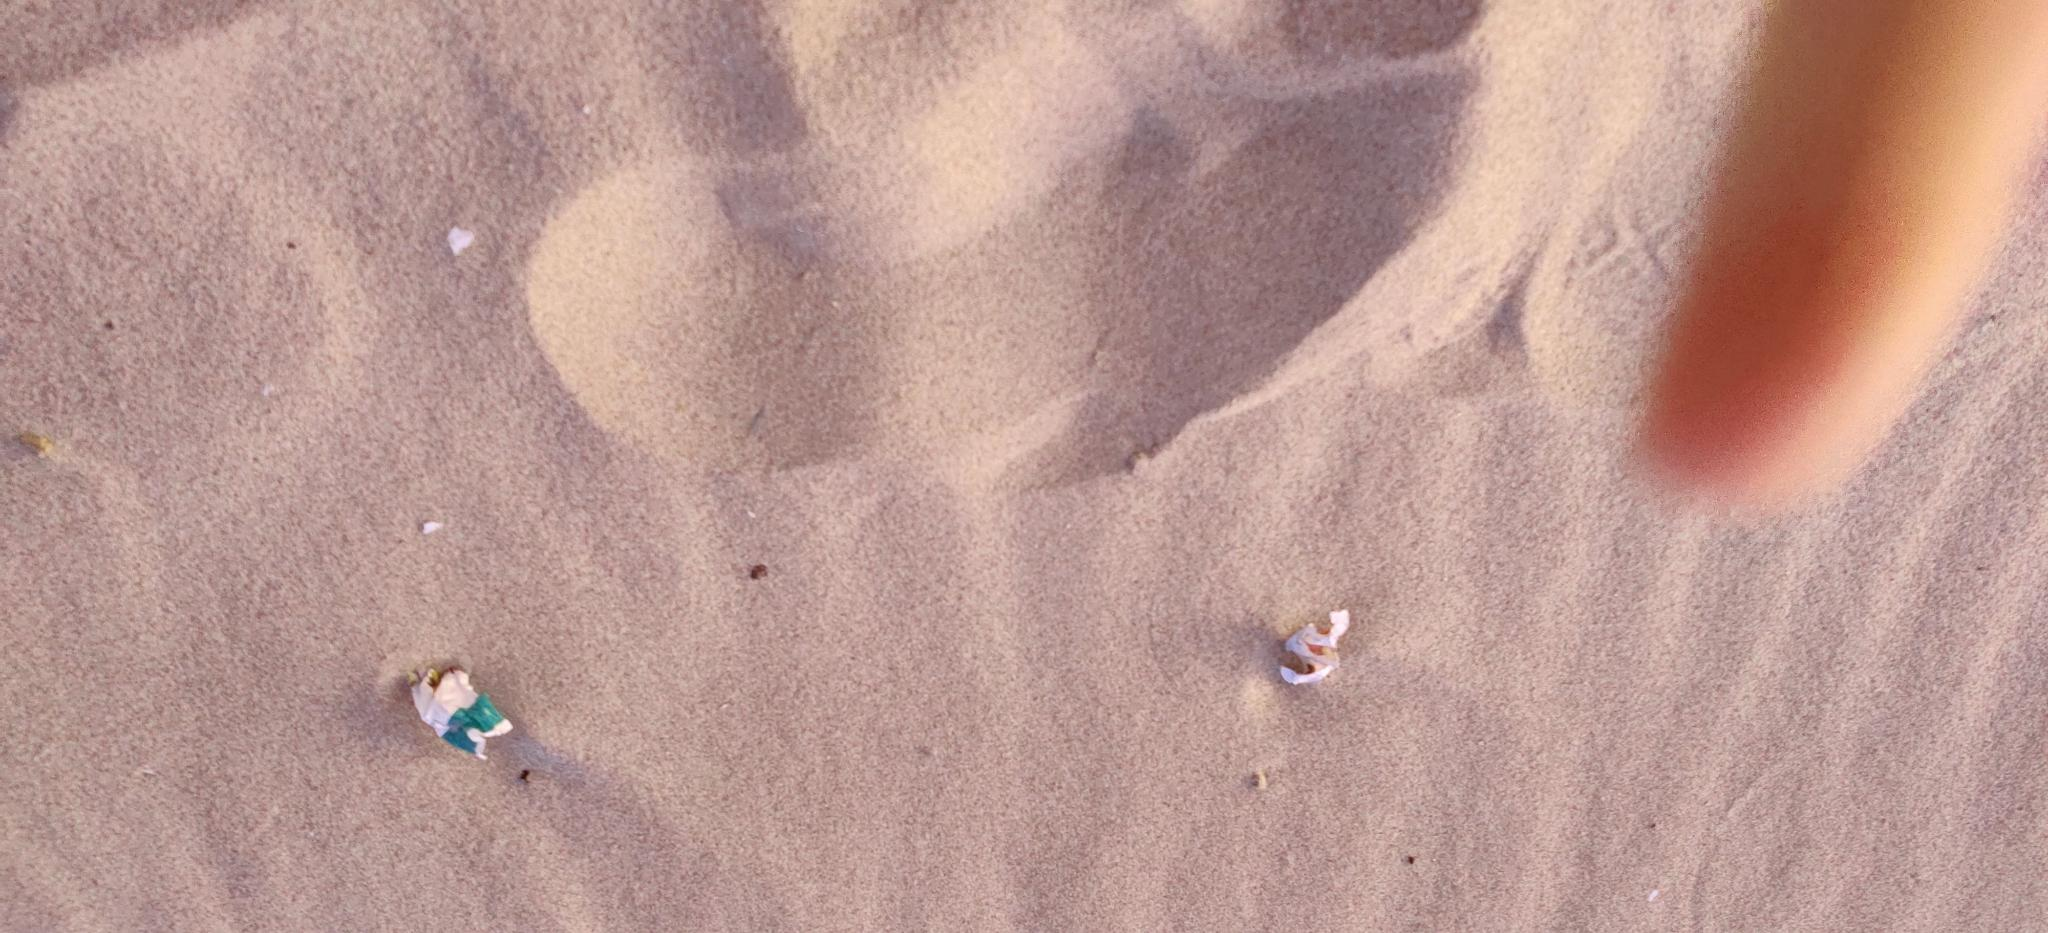Plastic: (1271, 597, 1368, 695)
Trash: (401, 655, 520, 767)
